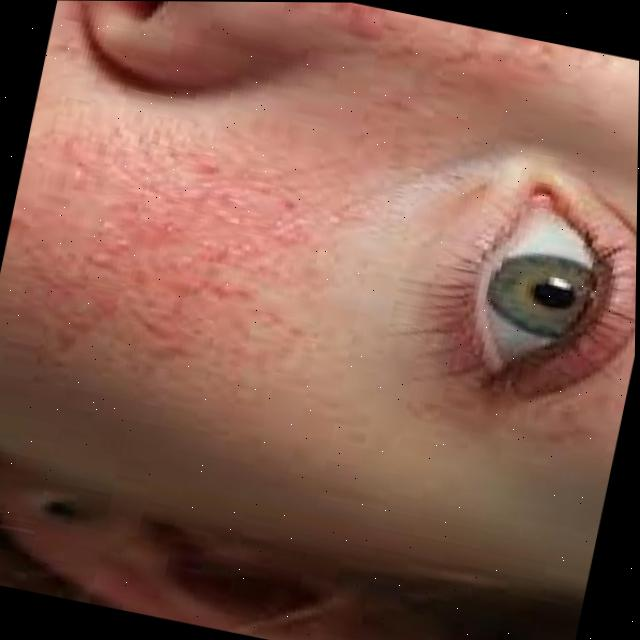Rosacea: (0, 102, 355, 425), (251, 2, 587, 148)
